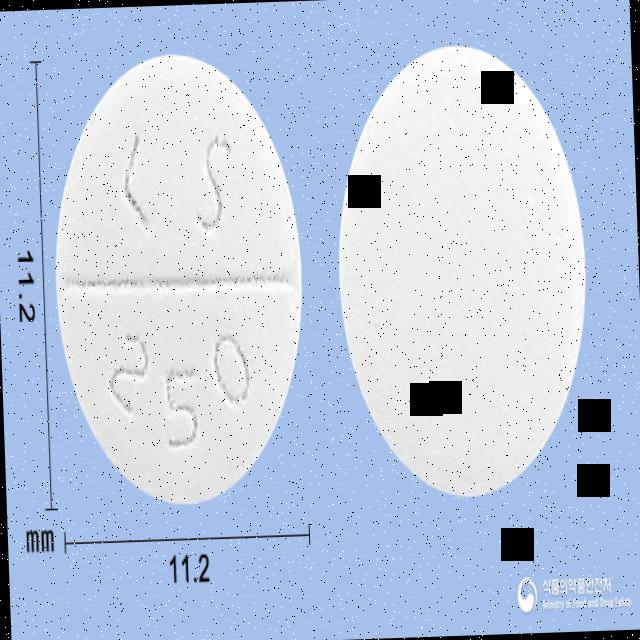Cifroxa: (44, 43, 314, 516)
